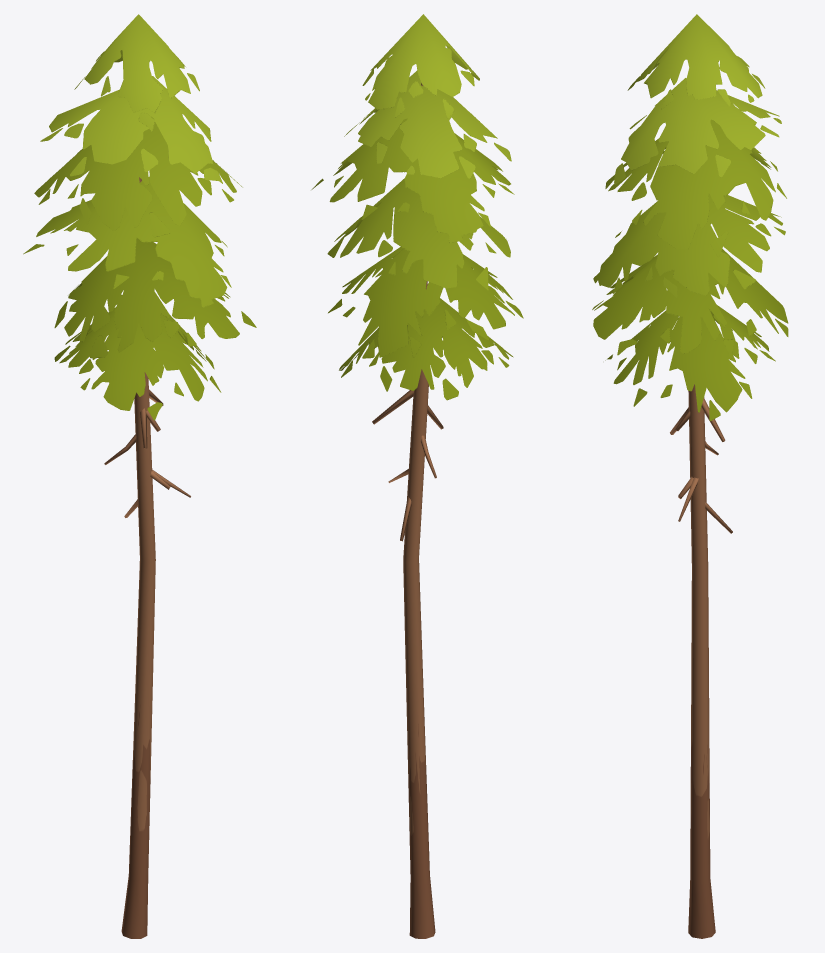
Rendered from md_tall_tree_1.fbx.
The picture shows the model from 3 angles, left to right: view 1: azimuth 30°, elevation 25°; view 2: azimuth 150°, elevation 25°; view 3: azimuth 270°, elevation 25°; orthographic projection.
Parts seen in each view (by area): view 1: md_tall_tree_1_LOD00; view 2: md_tall_tree_1_LOD00; view 3: md_tall_tree_1_LOD00.
Part boxes in pixels (x1,y1,x2,y2): md_tall_tree_1_LOD00: (23,14,256,938); md_tall_tree_1_LOD00: (311,14,523,938); md_tall_tree_1_LOD00: (592,14,788,938).
Size of what is drawn, in the model's own units: 3.49 by 14.6 by 3.46.
